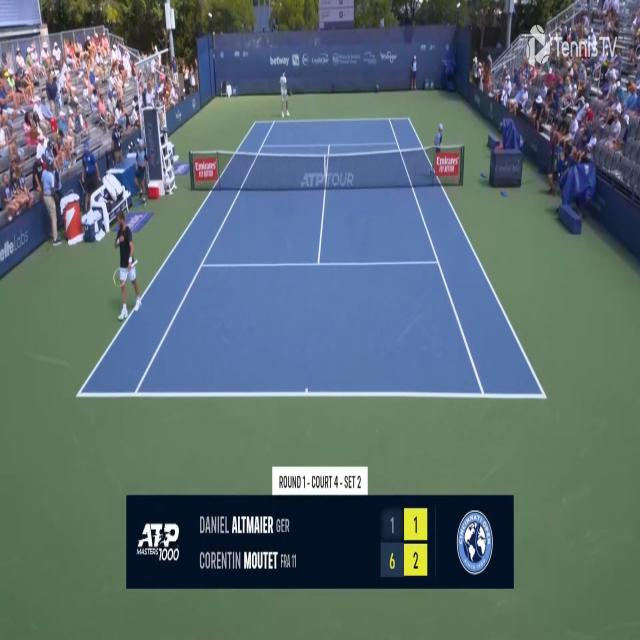tennis-player: (111, 211, 142, 323), (279, 69, 292, 118)
